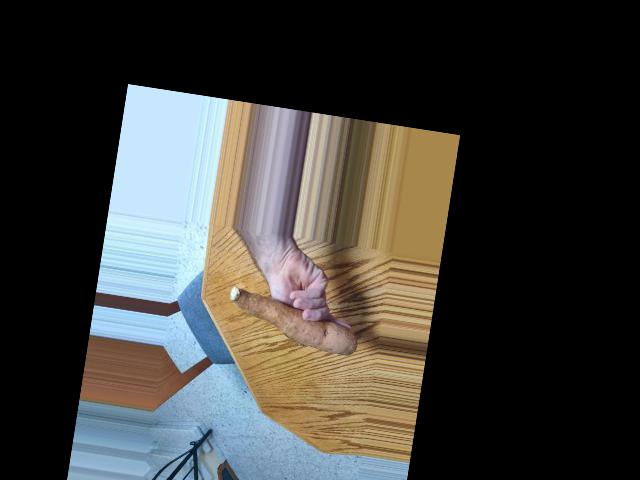sweet_potato: (222, 281, 365, 359)
